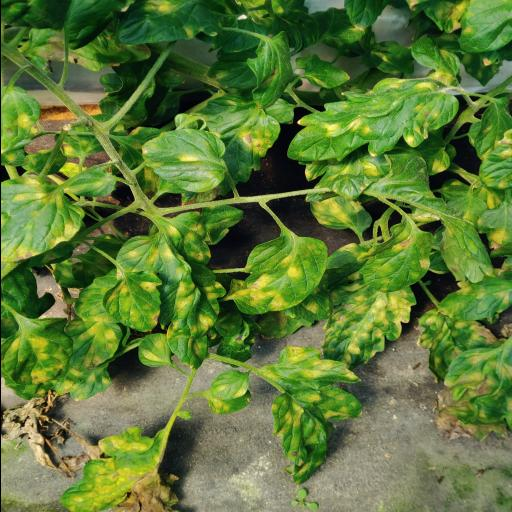disease_tomato: (286, 34, 460, 162), (258, 346, 360, 486), (115, 218, 226, 340), (58, 425, 178, 512), (321, 270, 416, 370), (0, 317, 110, 401), (434, 346, 512, 442), (0, 175, 84, 263), (243, 236, 327, 310), (356, 223, 434, 293), (140, 128, 225, 192), (103, 270, 163, 332), (436, 275, 512, 321), (64, 318, 122, 372)
